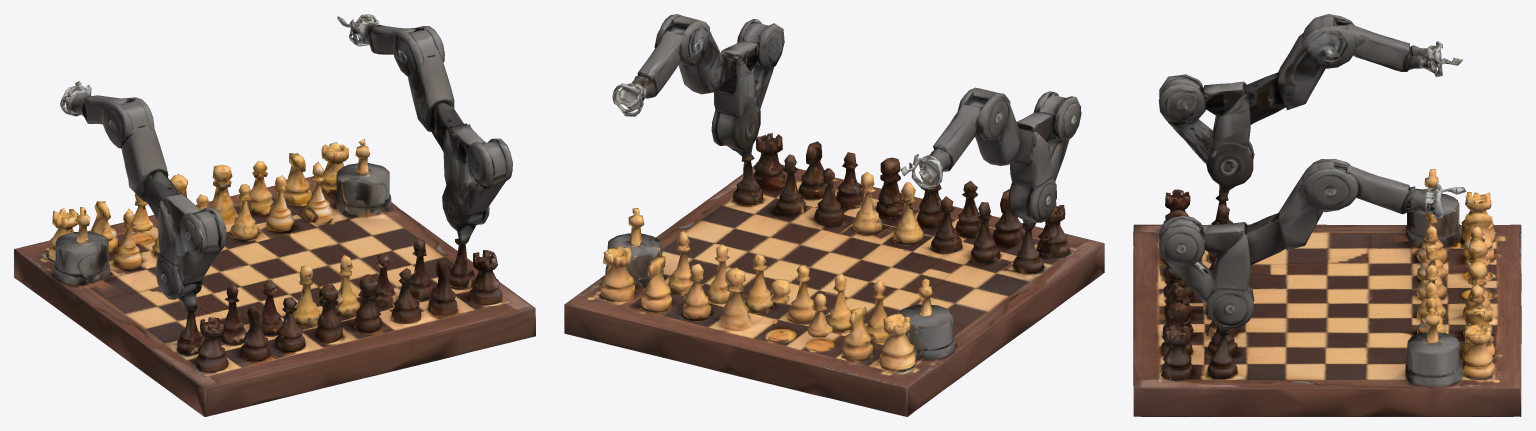
The model's file is a_robotics_chessboard_0531100037_texture.glb.
3 renders of one model, left to right at view 1: azimuth 30°, elevation 25°; view 2: azimuth 150°, elevation 25°; view 3: azimuth 270°, elevation 25°, orthographic. The views are drawn at different scales.
Size of the model in its own units: 2 by 1.39 by 2.
1 material, 1 textured.
